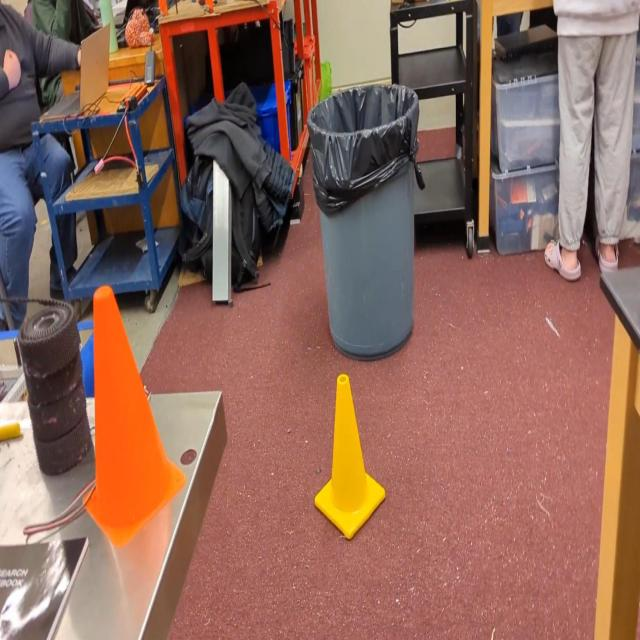frc_cone: (312, 374, 386, 536)
